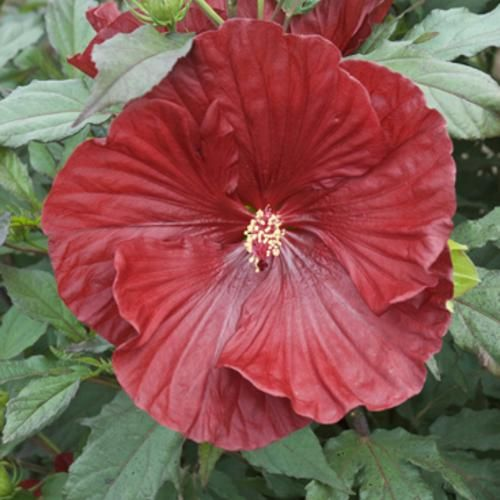Hibiscus: (39, 22, 455, 441)
